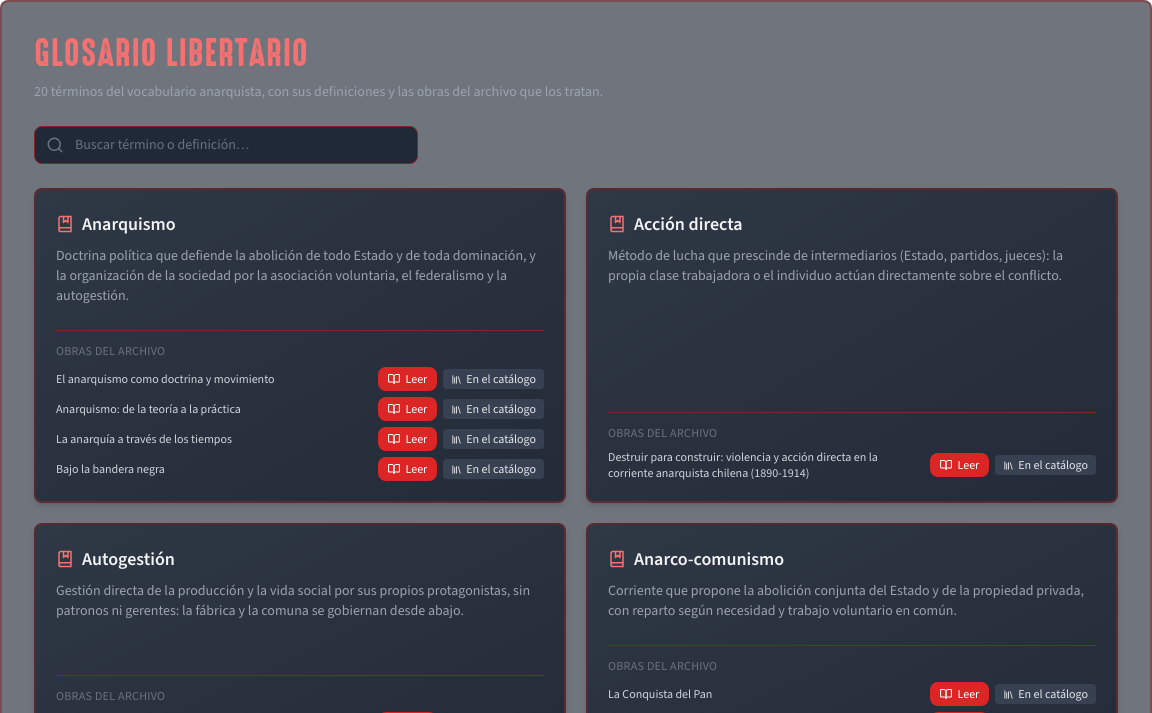
Test: GlossaryView › filtra los términos por búsqueda
Expected: the heading "Anarquismo" is shown, [82,210,176,238]
In the field named "Buscar término del glosario": (226, 145) [34,126,418,164], type "mutualismo"
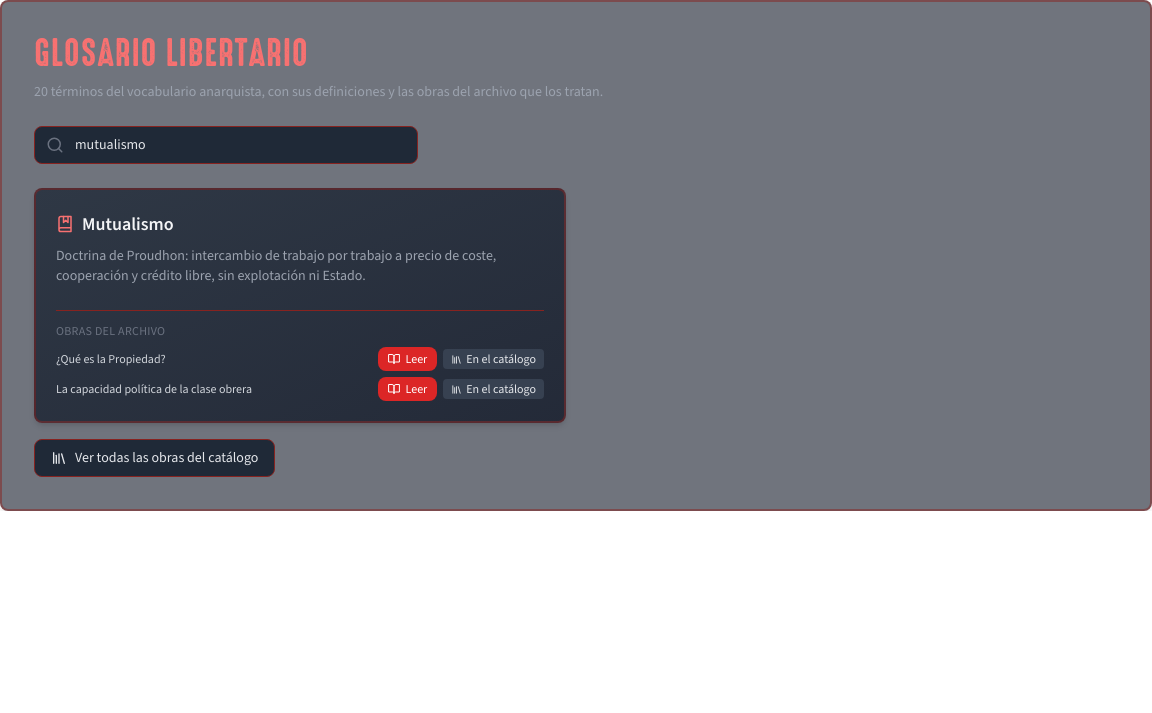
Expected: the heading "Mutualismo" is shown, [82,210,174,238]
Result: the heading "Anarquismo" is gone
